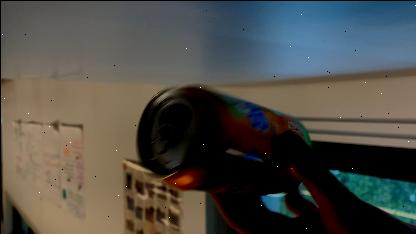Can: (134, 82, 312, 196)
